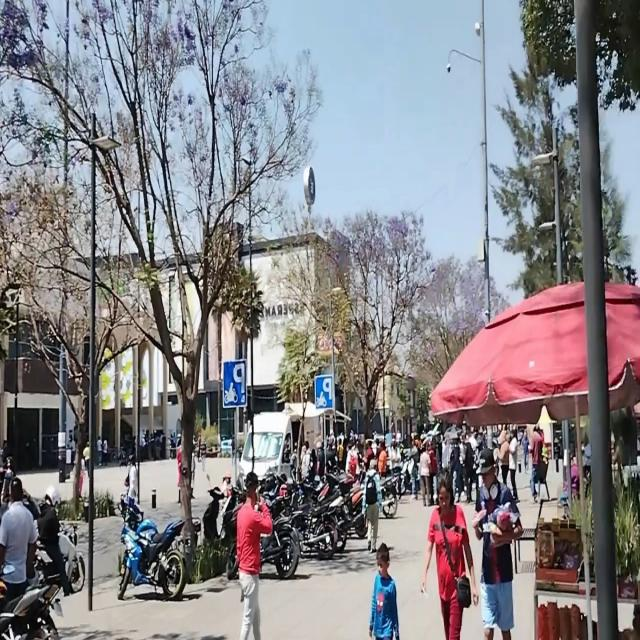adult: (421, 465, 481, 640), (472, 448, 524, 640), (237, 473, 270, 640), (0, 478, 39, 594), (363, 458, 381, 553), (125, 455, 137, 519)
child: (370, 540, 399, 640)
